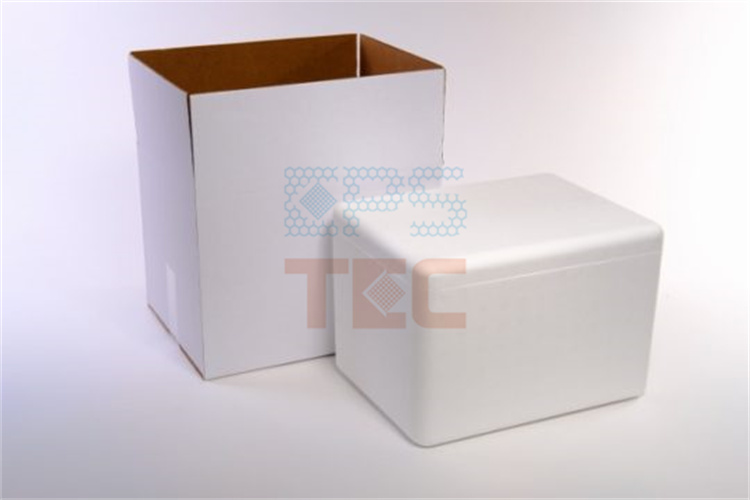Boxes: (336, 173, 663, 446)
